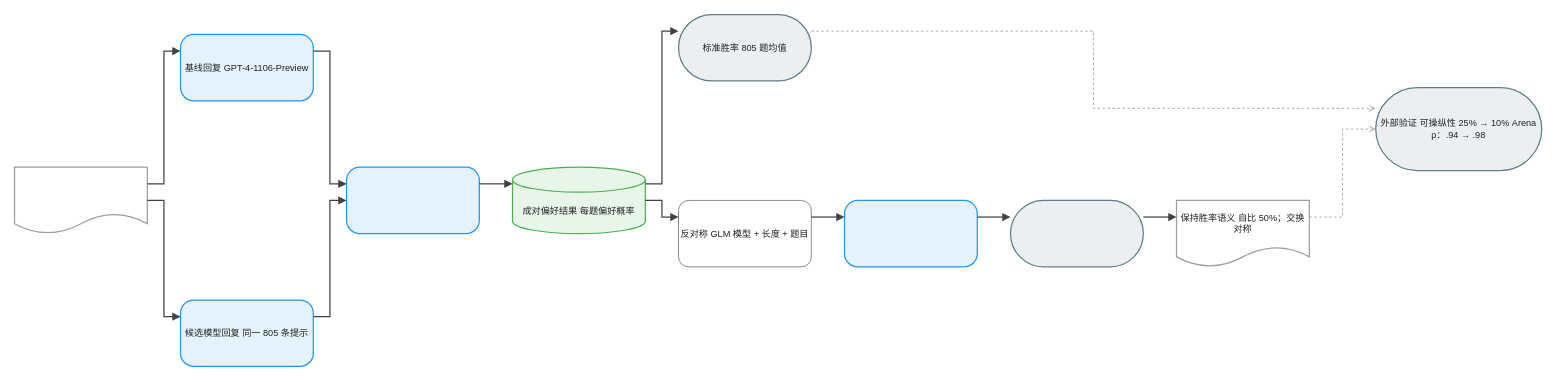
This 1557x382 diagram has some shape labels left out. The centre of each missing label's shape, as x and y in pixels:
GPT-4-Turbo 评审 随机呈现顺序: (x=413, y=200)
固定指令集 805 条 Alpaca 提示: (x=81, y=200)
拟合与正则化 五折交叉验证 + L2: (x=911, y=233)
长度控制胜率 长度项置零: (x=1077, y=233)
